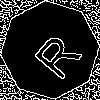R: (25, 25, 84, 83)
